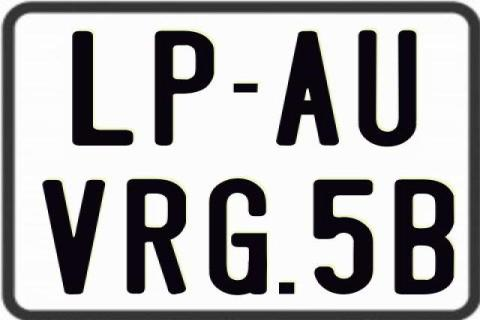0: (310, 178, 371, 296)
A: (276, 29, 339, 147)
B: (393, 177, 455, 293)
G: (208, 179, 272, 297)
L: (69, 29, 134, 145)
P: (153, 31, 212, 147)
R: (126, 180, 188, 300)
U: (355, 30, 419, 148)
V: (43, 180, 108, 294)
